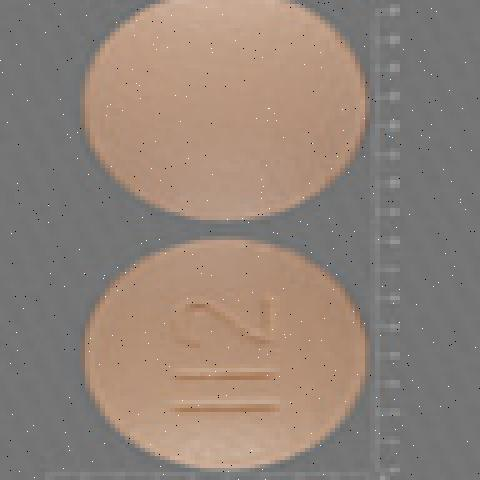Pill: (77, 221, 373, 480), (76, 1, 394, 227)
